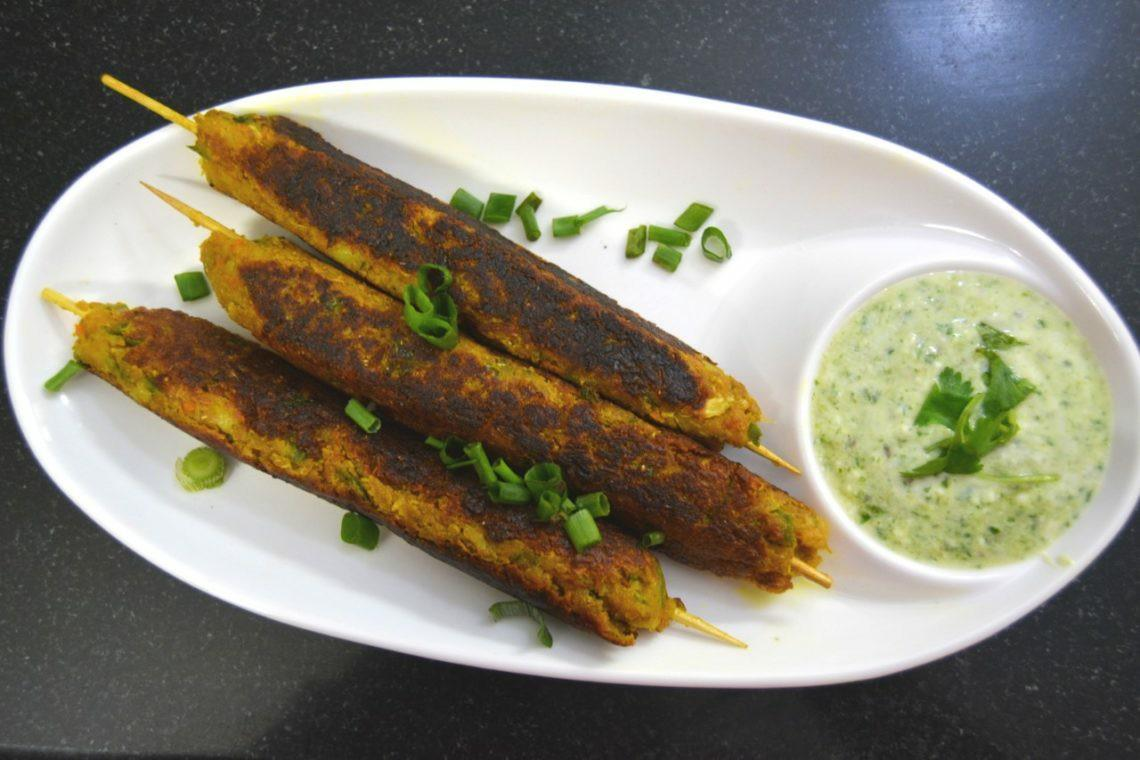Kebab: (198, 227, 827, 594), (74, 300, 670, 647), (194, 111, 762, 448)
